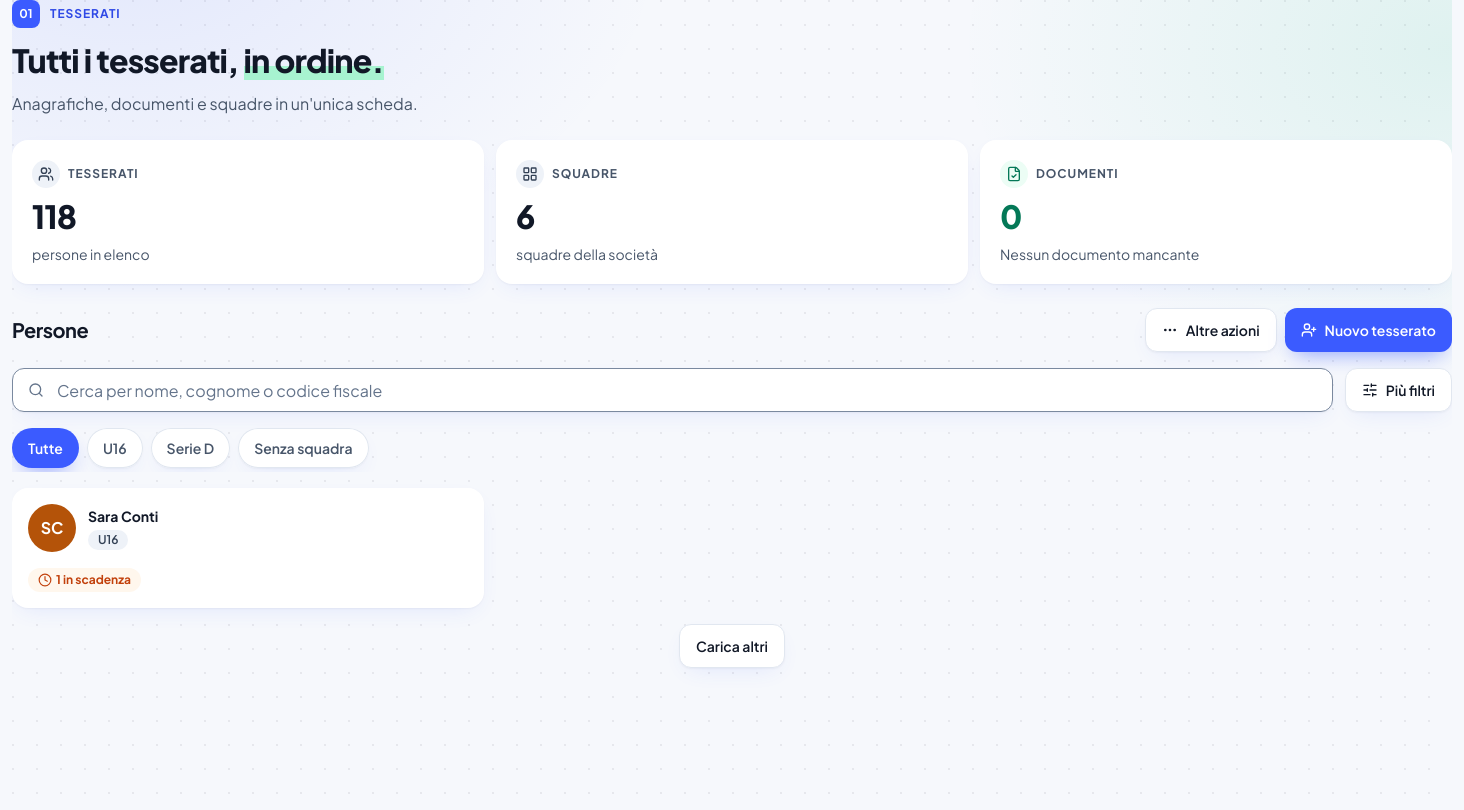
MembersPage › loads more members with the cursor
Expected: the text "Sara Conti" is shown, [88, 506, 158, 526]
Click the button "Carica altri" at (732, 646), box [679, 624, 785, 668]
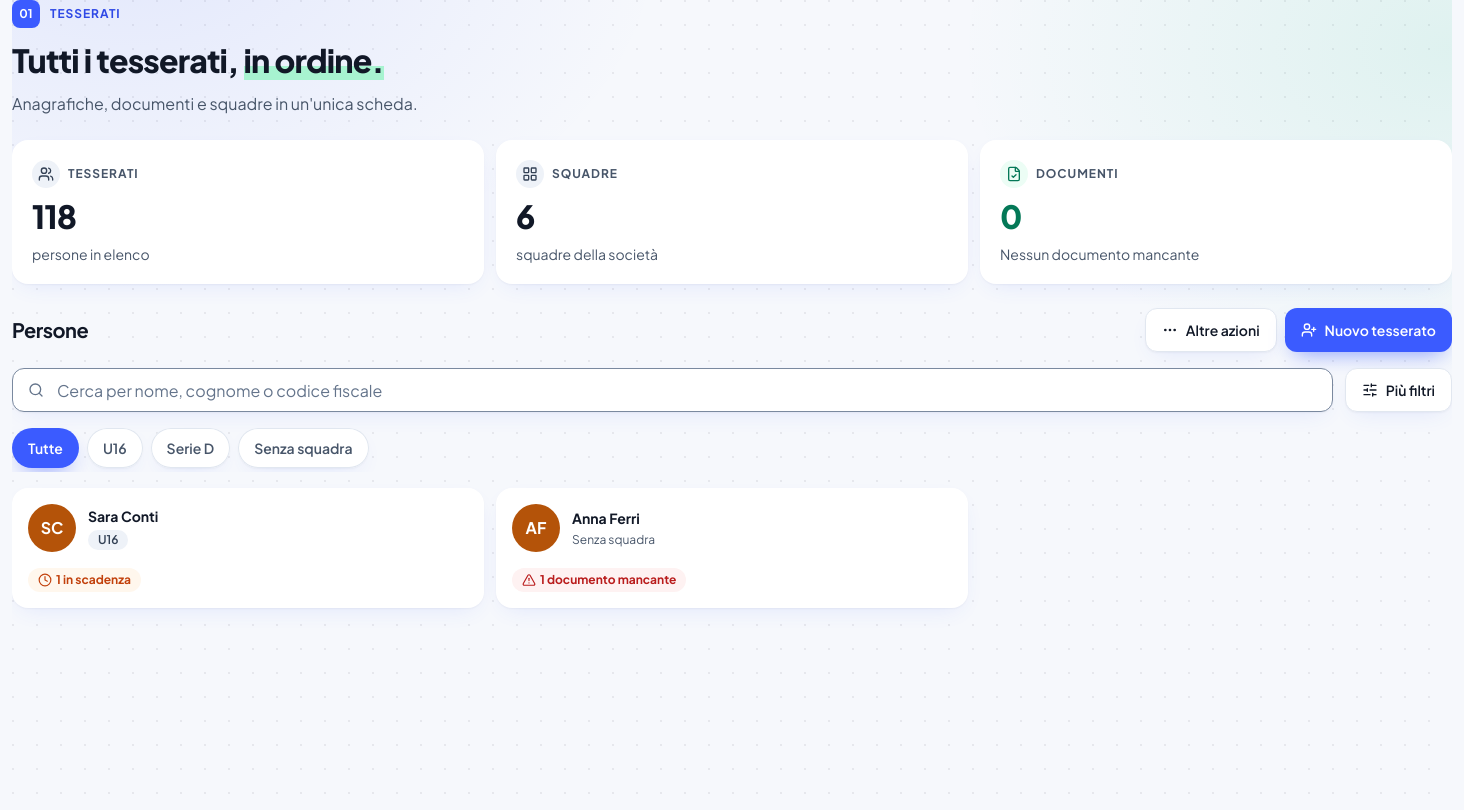
Expected: the text "Sara Conti" is shown, [88, 506, 158, 526]
Result: the text "Anna Ferri" is shown at [572, 509, 640, 527]
Result: the button "Carica altri" is gone
